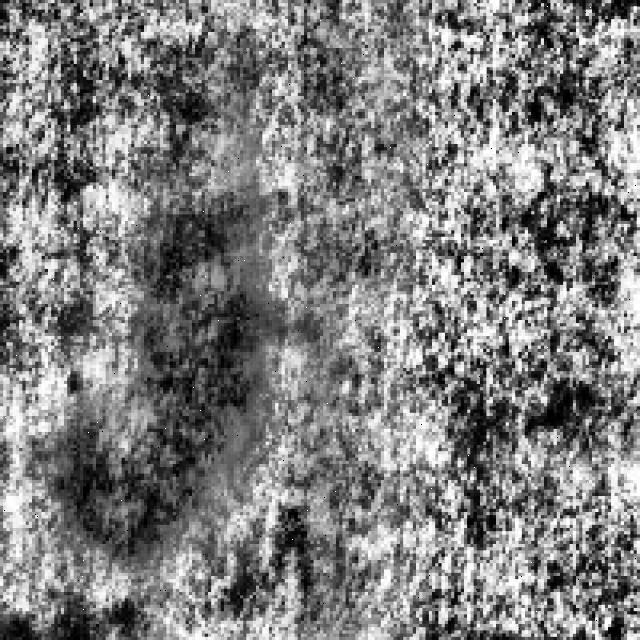Scratches: (61, 172, 266, 550)
